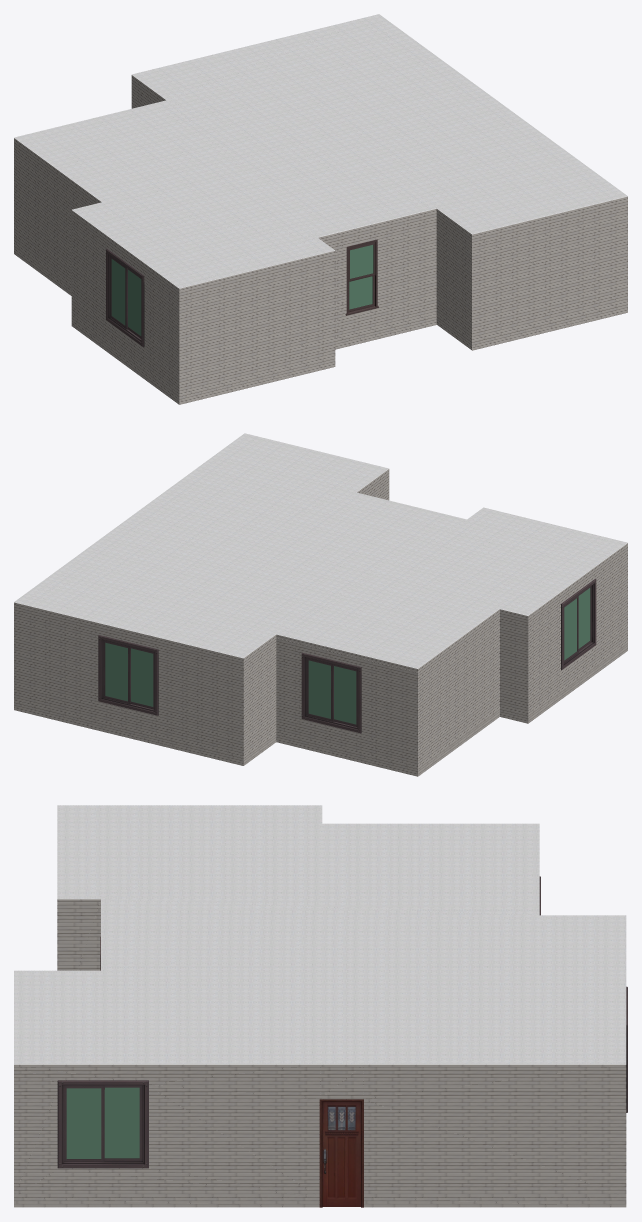
The model's file is house_0110300.FBX.
The picture shows the model from 3 angles, top to bottom: view 1: azimuth 30°, elevation 25°; view 2: azimuth 150°, elevation 25°; view 3: azimuth 270°, elevation 25°; orthographic projection. The views are drawn at different scales.
Visible parts, largest first — view 1: house_0110300_roof_100_00, house_0110300_outwall_100_07, house_0110300_outwall_100_011, house_0110300_outwall_100_09, house_0110300_outwall_100_06, house_0110300_outwall_100_04, house_0110300_outwall_100_010, house_0110300_floor_103_00, house_0110300_floor_104_00, house_0110300_tcx_100_07, house_0110300_tcx_100_011, house_0110300_tcx_100_06 (+2 smaller); view 2: house_0110300_roof_100_00, house_0110300_outwall_100_01, house_0110300_outwall_100_03, house_0110300_outwall_100_04, house_0110300_outwall_100_06, house_0110300_floor_101_00, house_0110300_floor_102_00, house_0110300_outwall_100_02, house_0110300_outwall_100_05, house_0110300_floor_103_00, house_0110300_tcx_100_01, house_0110300_tcx_100_03 (+3 smaller); view 3: house_0110300_roof_100_00, house_0110300_outwall_100_00, house_0110300_floor_105_00, house_0110300_tcx_100_00, house_0110300_outwall_101_00, house_0110300_outwall_100_08, house_0110300_outedge_100_00.
Boxes of the visible parts, x1,y1,x2,y2 form: house_0110300_roof_100_00: (14, 14, 627, 288); house_0110300_outwall_100_07: (179, 251, 335, 396); house_0110300_outwall_100_011: (472, 196, 627, 342); house_0110300_outwall_100_09: (318, 209, 436, 341); house_0110300_outwall_100_06: (71, 210, 179, 396); house_0110300_outwall_100_04: (14, 138, 101, 287); house_0110300_outwall_100_010: (436, 209, 471, 342); house_0110300_floor_103_00: (106, 248, 144, 347); house_0110300_floor_104_00: (345, 239, 378, 315); house_0110300_tcx_100_07: (179, 359, 335, 404); house_0110300_tcx_100_011: (472, 304, 627, 350); house_0110300_tcx_100_06: (71, 318, 179, 404); house_0110300_roof_100_00: (14, 433, 627, 668); house_0110300_outwall_100_01: (14, 602, 243, 758); house_0110300_outwall_100_03: (276, 634, 417, 769); house_0110300_outwall_100_04: (418, 609, 499, 768); house_0110300_outwall_100_06: (528, 543, 627, 715); house_0110300_floor_101_00: (98, 635, 158, 715); house_0110300_floor_102_00: (301, 652, 361, 733); house_0110300_outwall_100_02: (243, 635, 276, 758); house_0110300_outwall_100_05: (500, 609, 528, 716); house_0110300_floor_103_00: (561, 578, 596, 670); house_0110300_tcx_100_01: (14, 702, 243, 765); house_0110300_tcx_100_03: (276, 735, 417, 776); house_0110300_roof_100_00: (14, 805, 626, 1063); house_0110300_outwall_100_00: (14, 1064, 626, 1197); house_0110300_floor_105_00: (57, 1080, 148, 1168); house_0110300_tcx_100_00: (14, 1197, 626, 1207); house_0110300_outwall_101_00: (319, 1099, 363, 1207); house_0110300_outwall_100_08: (57, 899, 100, 970); house_0110300_outedge_100_00: (14, 1064, 625, 1064).
Size of the model in its own units: 1134 by 291 by 1131.
Materials: 59 (58 with a texture image).
